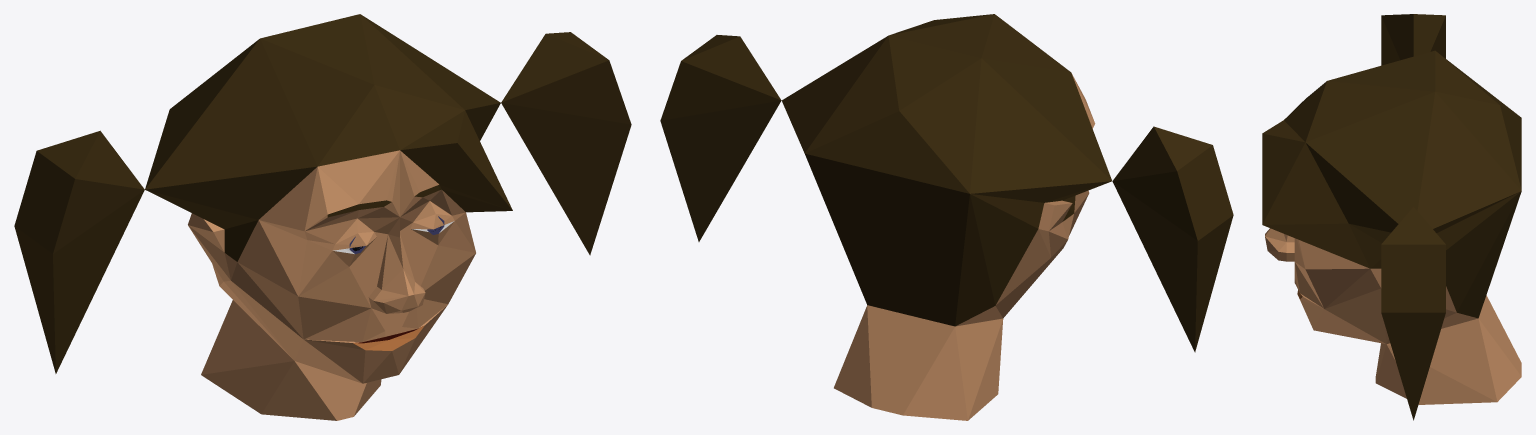
The model's file is model_118_idk_head.obj.
The picture shows the model from 3 angles, left to right: view 1: azimuth 30°, elevation 25°; view 2: azimuth 150°, elevation 25°; view 3: azimuth 270°, elevation 25°; orthographic projection. The views are drawn at different scales.
Visible parts, largest first — view 1: 118; view 2: 118; view 3: 118.
Part boxes in pixels (left/top/right/bottom): 118: left=14, top=14, right=631, bottom=420; 118: left=660, top=14, right=1233, bottom=420; 118: left=1262, top=14, right=1521, bottom=420.
Bounding box in the file's own units: 208 × 126 × 96.
